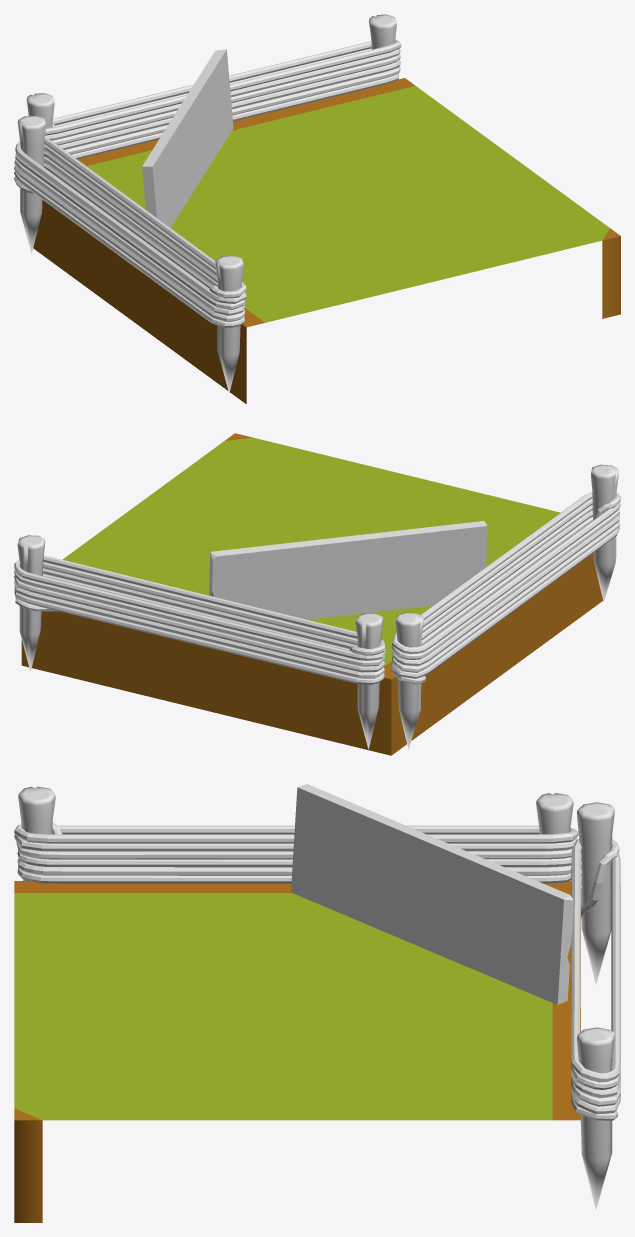
The model's file is Turn4502.fbx.
3 renders of one model, top to bottom at view 1: azimuth 30°, elevation 25°; view 2: azimuth 150°, elevation 25°; view 3: azimuth 270°, elevation 25°, orthographic. The views are drawn at different scales.
Parts seen in each view (by area): view 1: Cube.011, Cube.006, Cube.009, Cube.002; view 2: Cube.011, Cube.009, Cube.002, Cube.006; view 3: Cube.011, Cube.002, Cube.006, Cube.009.
Part boxes in pixels (x1,y1,x2,y2): Cube.011: [33, 78, 620, 404]; Cube.006: [14, 115, 246, 393]; Cube.009: [26, 14, 401, 159]; Cube.002: [142, 49, 233, 227]; Cube.011: [21, 433, 603, 755]; Cube.009: [14, 535, 385, 749]; Cube.002: [209, 521, 487, 619]; Cube.006: [391, 464, 620, 749]; Cube.011: [14, 881, 580, 1222]; Cube.002: [291, 784, 573, 1004]; Cube.006: [14, 786, 578, 883]; Cube.009: [571, 802, 620, 1209].
Bounding box in the file's own units: 214 × 79.95 × 214.
